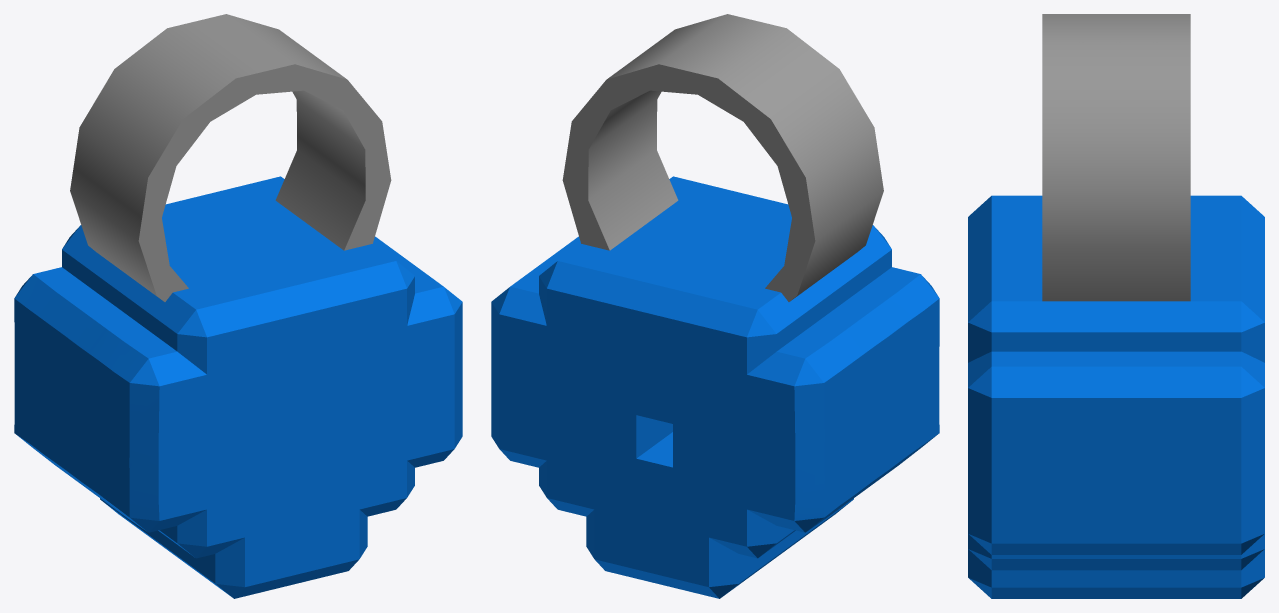
The model's file is Lock_Closed_Blue.fbx.
3 views of the same model, side by side, from view 1: azimuth 30°, elevation 25°; view 2: azimuth 150°, elevation 25°; view 3: azimuth 270°, elevation 25° (orthographic). The views are drawn at different scales.
Parts seen in each view (by area): view 1: Lock_Closed_Blue; view 2: Lock_Closed_Blue; view 3: Lock_Closed_Blue.
Part boxes in pixels (bbox=[...]): Lock_Closed_Blue: bbox=[14, 14, 462, 598]; Lock_Closed_Blue: bbox=[491, 14, 939, 598]; Lock_Closed_Blue: bbox=[968, 14, 1264, 598].
Bounding box in the file's own units: 7 × 9.99 × 5.
